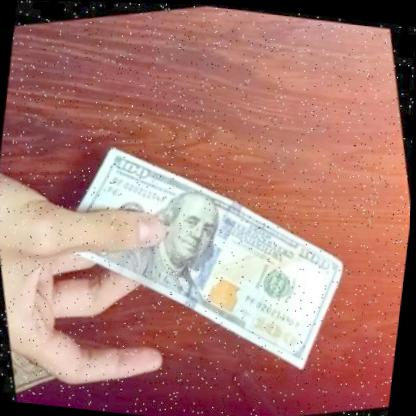one_hundred-front: (12, 82, 386, 416)
